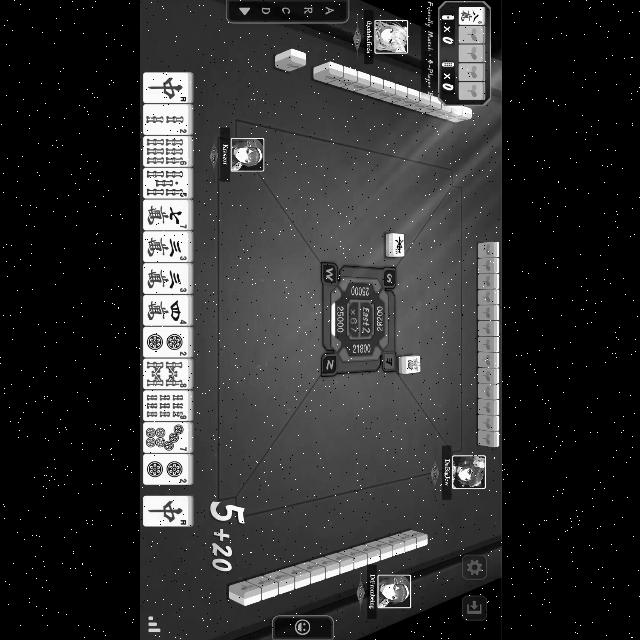1s: (405, 356, 419, 372)
2p: (142, 455, 186, 485), (141, 328, 185, 356)
2s: (142, 106, 185, 134)
3m: (143, 264, 187, 294), (144, 232, 186, 262)
4m: (142, 298, 185, 326)
5s: (142, 168, 185, 198)
6s: (143, 136, 185, 166)
7m: (144, 200, 186, 230)
7p: (143, 423, 187, 452)
8m: (458, 8, 482, 24)
8s: (144, 362, 186, 388)
9s: (144, 393, 186, 419)
chun: (142, 498, 188, 526), (142, 74, 186, 102)
tou: (392, 234, 403, 256)
